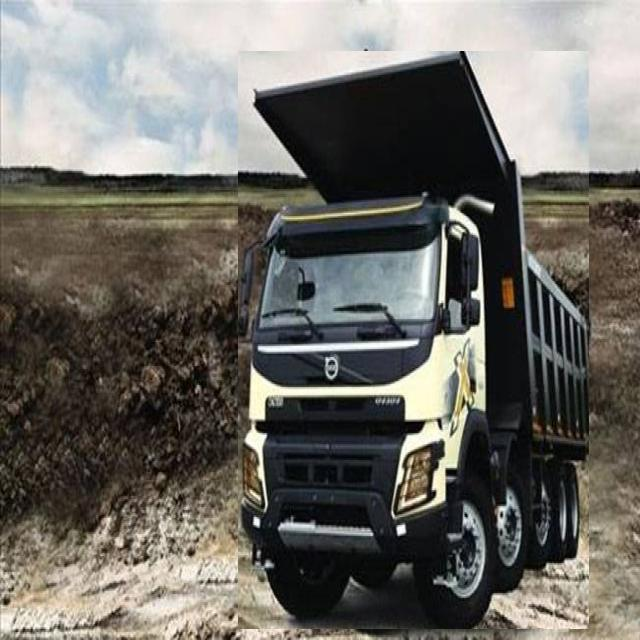truck: (239, 52, 589, 629)
